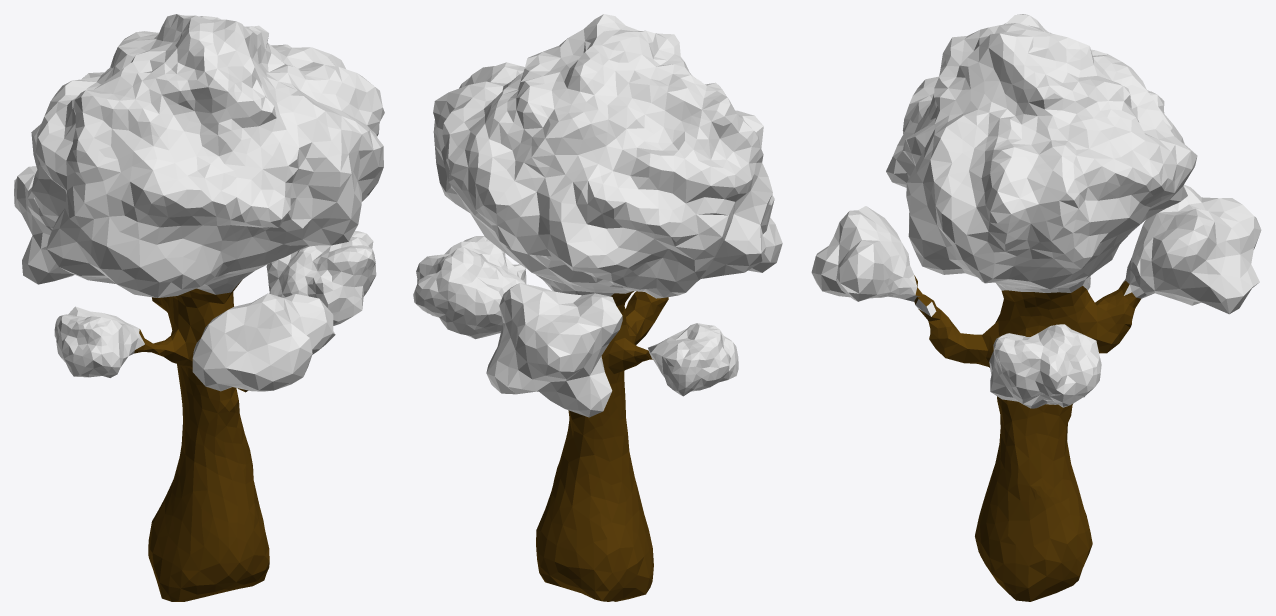
Rendered from drvo2.fbx.
The picture shows the model from 3 angles, left to right: view 1: azimuth 30°, elevation 25°; view 2: azimuth 150°, elevation 25°; view 3: azimuth 270°, elevation 25°; orthographic projection. The views are drawn at different scales.
Parts seen in each view (by area): view 1: Cube; view 2: Cube; view 3: Cube.
Part boxes in pixels (bbox=[...]): Cube: bbox=[14, 14, 384, 601]; Cube: bbox=[413, 14, 782, 601]; Cube: bbox=[811, 14, 1261, 601].
Size of the model in its own units: 654 by 1069 by 781.
